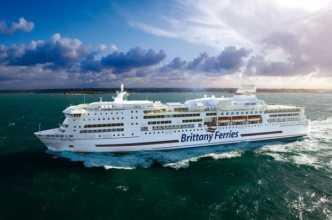youlun: (29, 89, 314, 157)
